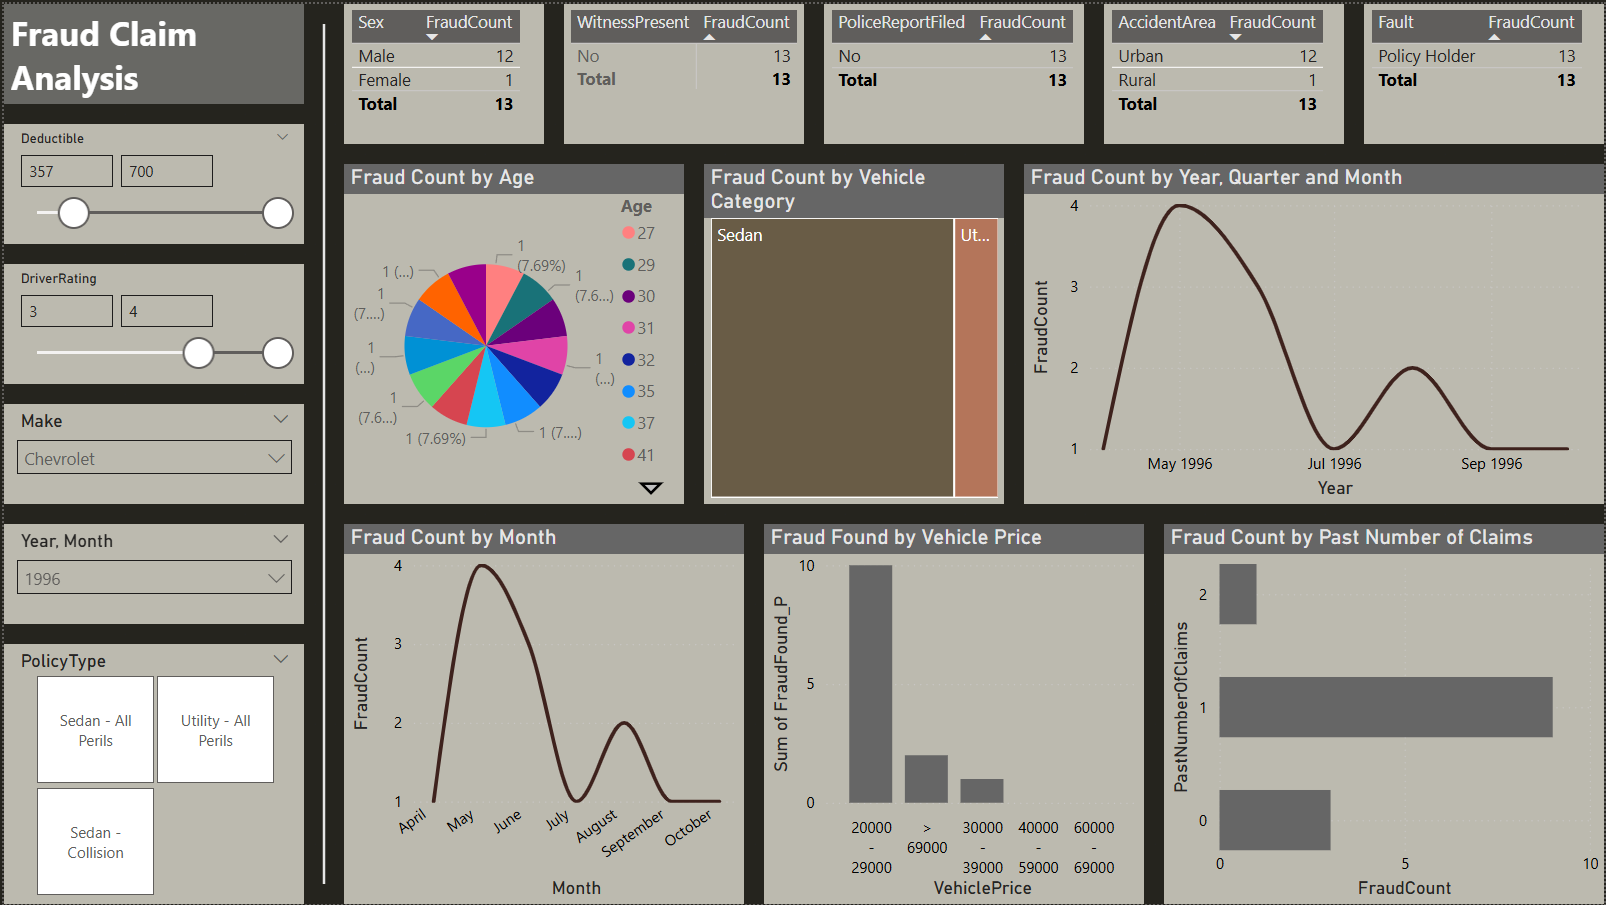

What the dashboard file says about the page in this screenshot:
{"tool":"powerbi","page":{"name":"Page 1","canvas":[1280,720],"ordinal":0},"visuals":[{"type":"lineChart","title":"Fraud Count by Year, Quarter and Month","fields":{"Y":["DAX.FraudCount"],"Category":["Calender.Date.Variation.Date Hierarchy.Year","Calender.Date.Variation.Date Hierarchy.Quarter","Calender.Date.Variation.Date Hierarchy.Month","Calender.Date.Variation.Date Hierarchy.Day"]},"box":[816,128,464,272],"z":0},{"type":"clusteredColumnChart","title":"Fraud Found by Vehicle Price","fields":{"Y":["Sum(FACT_ClaimFraud.FraudFound_P)"],"Category":["DIM_Vehicle.VehiclePrice"]},"box":[608,416,304,304],"z":1000},{"type":"pieChart","title":"Fraud Count by Age","fields":{"Category":["DIM_PolicyHolder.Age"],"Y":["DAX.FraudCount"]},"box":[272,128,272,272],"z":2000},{"type":"barChart","title":"Fraud Count by Past Number of Claims","fields":{"Category":["FACT_ClaimFraud.PastNumberOfClaims"],"Y":["DAX.FraudCount"]},"box":[928,416,352,304],"z":3000},{"type":"slicer","title":"DEDUCTIBLE","fields":{"Values":["FACT_ClaimFraud.Deductible"]},"box":[0,96,240,96],"z":4000},{"type":"slicer","fields":{"Values":["FACT_ClaimFraud.DriverRating"]},"box":[0,208,240,96],"z":5000},{"type":"slicer","fields":{"Values":["DIM_Vehicle.Make"]},"box":[0,320,240,80],"z":6000},{"type":"slicer","fields":{"Values":["DIM_Vehicle.PolicyType"]},"box":[0,512,240,208],"z":7000},{"type":"tableEx","fields":{"Values":["DIM_Incident.Fault","DAX.FraudCount"]},"box":[1088,0,192,112],"z":8000},{"type":"lineChart","title":"Fraud Count by Month","fields":{"Y":["DAX.FraudCount"],"Category":["Calender.Date.Variation.Date Hierarchy.Month"]},"box":[272,416,320,304],"z":9000},{"type":"slicer","fields":{"Values":["Calender.Date.Variation.Date Hierarchy.Year","Calender.Date.Variation.Date Hierarchy.Month"]},"box":[0,416,240,80],"z":10000},{"type":"pivotTable","fields":{"Rows":["DIM_Incident.WitnessPresent"],"Values":["DAX.FraudCount"]},"box":[448,0,192,112],"z":11000},{"type":"tableEx","fields":{"Values":["DIM_Incident.PoliceReportFiled","DAX.FraudCount"]},"box":[656,0,208,112],"z":12000},{"type":"tableEx","fields":{"Values":["DIM_Incident.AccidentArea","DAX.FraudCount"]},"box":[880,0,192,112],"z":13000},{"type":"tableEx","fields":{"Values":["DIM_PolicyHolder.Sex","DAX.FraudCount"]},"box":[272,0,160,112],"z":14000},{"type":"treemap","title":"Fraud Count by Vehicle Category","fields":{"Group":["DIM_Vehicle.VehicleCategory"],"Values":["DAX.FraudCount"]},"box":[560,128,240,272],"z":15000},{"type":"shape","box":[240,16,32,688],"z":16000},{"type":"textbox","box":[0,0,240,80],"z":17000}]}

Visuals, with their boxes in screenshot pixels (x1, y1, x2, y2), scaled from the page's 1280x720 canvas onto the 1606x905 screenshot:
"Fraud Count by Year, Quarter and Month" lineChart: 1024,161,1605,503
"Fraud Found by Vehicle Price" clusteredColumnChart: 763,523,1144,904
"Fraud Count by Age" pieChart: 341,161,683,503
"Fraud Count by Past Number of Claims" barChart: 1164,523,1605,904
"DEDUCTIBLE" slicer: 0,121,301,241
slicer - FACT_ClaimFraud.DriverRating: 0,261,301,382
slicer - DIM_Vehicle.Make: 0,402,301,503
slicer - DIM_Vehicle.PolicyType: 0,644,301,904
tableEx - DIM_Incident.Fault x DAX.FraudCount: 1365,0,1605,141
"Fraud Count by Month" lineChart: 341,523,743,904
slicer - Calender.Date.Variation.Date Hierarchy.Year x Calender.Date.Variation.Date Hierarchy.Month: 0,523,301,623
pivotTable - DIM_Incident.WitnessPresent x DAX.FraudCount: 562,0,803,141
tableEx - DIM_Incident.PoliceReportFiled x DAX.FraudCount: 823,0,1084,141
tableEx - DIM_Incident.AccidentArea x DAX.FraudCount: 1104,0,1345,141
tableEx - DIM_PolicyHolder.Sex x DAX.FraudCount: 341,0,542,141
"Fraud Count by Vehicle Category" treemap: 703,161,1004,503
shape: 301,20,341,885
textbox: 0,0,301,101
